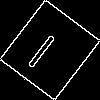I: (24, 25, 64, 70)
